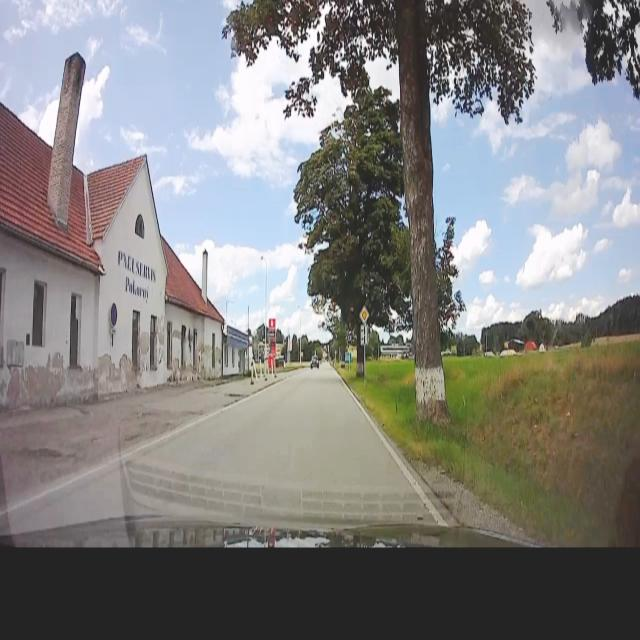Priority road: (360, 304, 370, 324)
